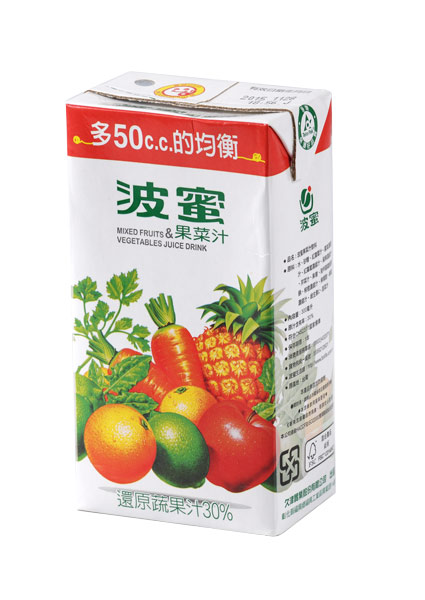vegetables juice: (60, 64, 351, 559)
